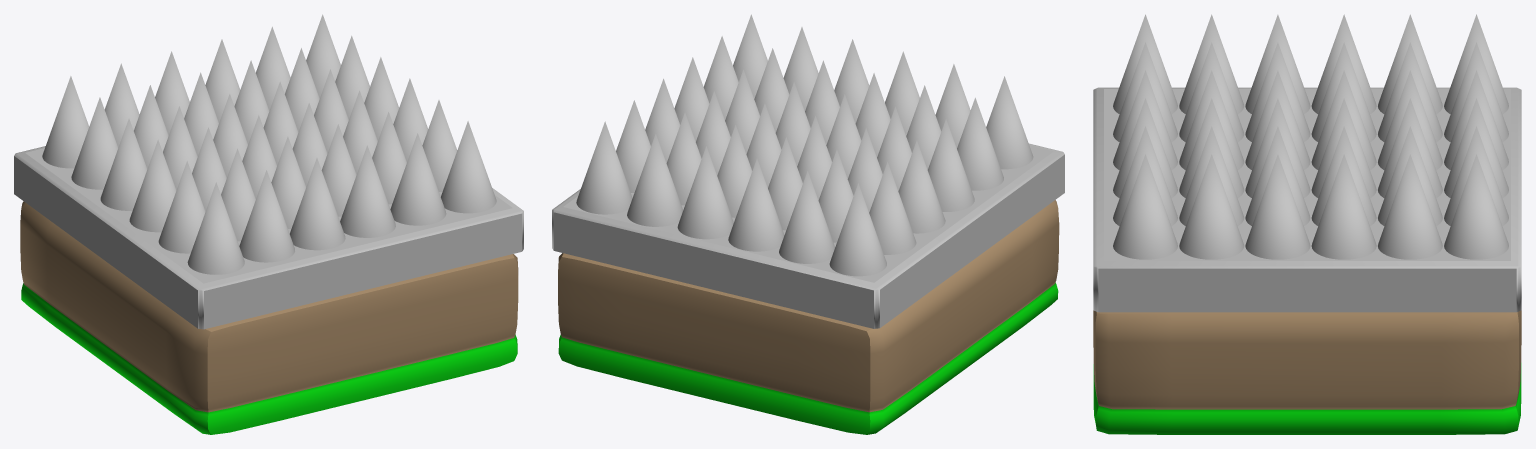
File: PlatformsStaticSpike.fbx
3 views of the same model, side by side, from view 1: azimuth 30°, elevation 25°; view 2: azimuth 150°, elevation 25°; view 3: azimuth 270°, elevation 25° (orthographic). The views are drawn at different scales.
Visible parts, largest first — view 1: Cone.001, Cube, Spikes.001; view 2: Cone.001, Cube, Spikes.001; view 3: Cone.001, Cube, Spikes.001.
Boxes of the visible parts, x1,y1,x2,y2 form: Cone.001: (42,14,496,274); Cube: (20,201,518,434); Spikes.001: (14,146,523,329); Cone.001: (576,14,1033,276); Cube: (558,200,1059,434); Spikes.001: (552,143,1064,328); Cone.001: (1113,14,1508,259); Cube: (1093,310,1521,434); Spikes.001: (1093,87,1521,312).
Bounding box in the file's own units: 150 × 104 × 150.
